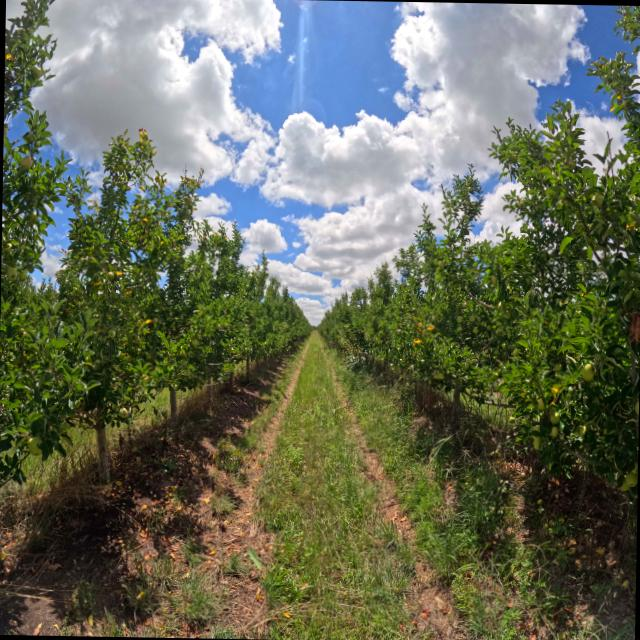-FireBlight-: (622, 307, 640, 346)
